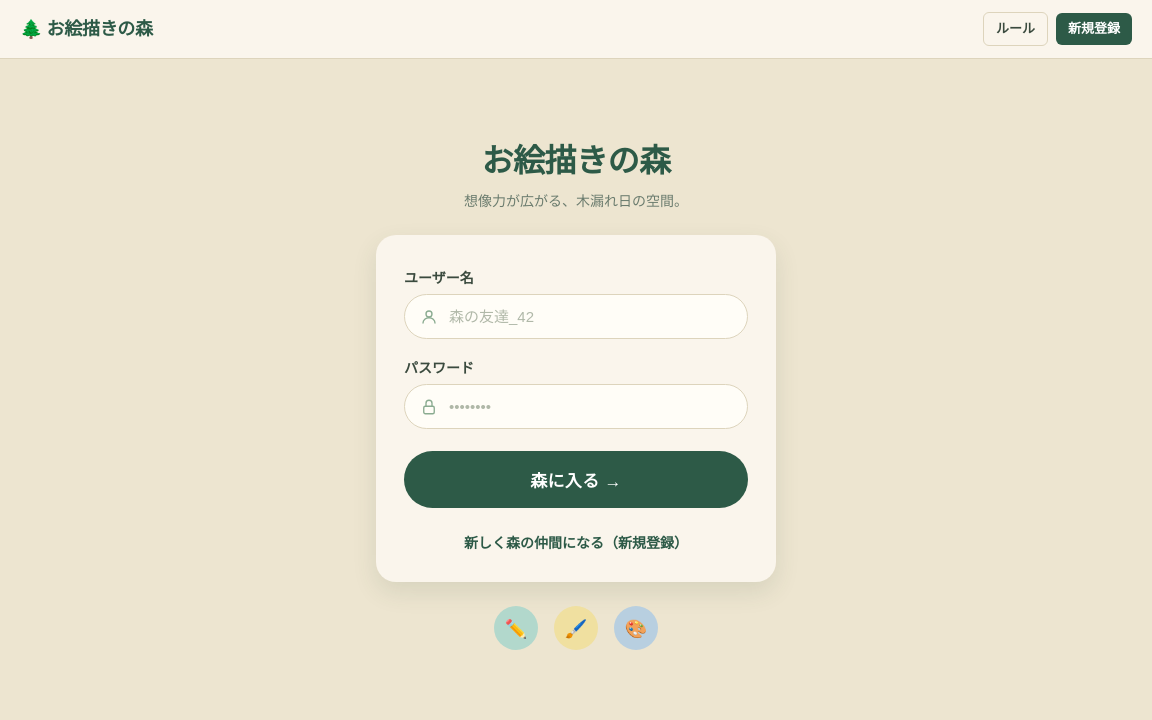
Scenario: Login ページ › 送信中はボタンが無効化される
Type "testuser" into the field labelled "ユーザー名".
click(576, 317); type("testuser")  # box [404,294,748,339]
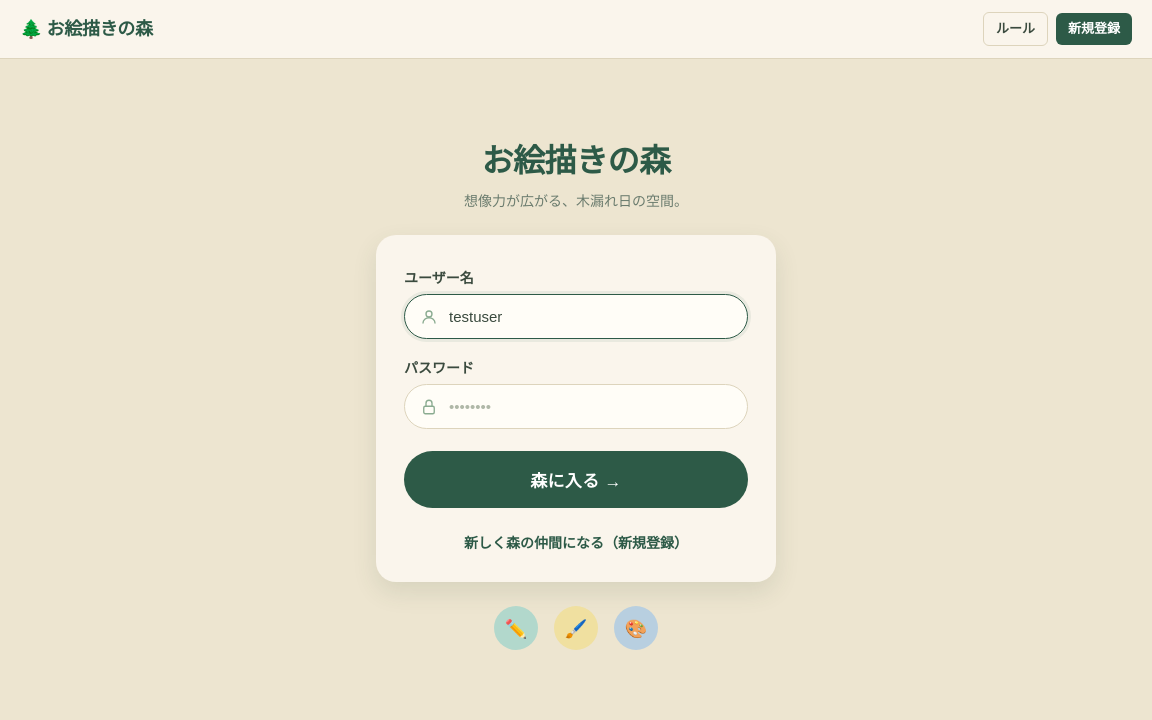
Type "password123" into the password field labelled "パスワード".
click(576, 407); type("password123")  # box [404,384,748,429]
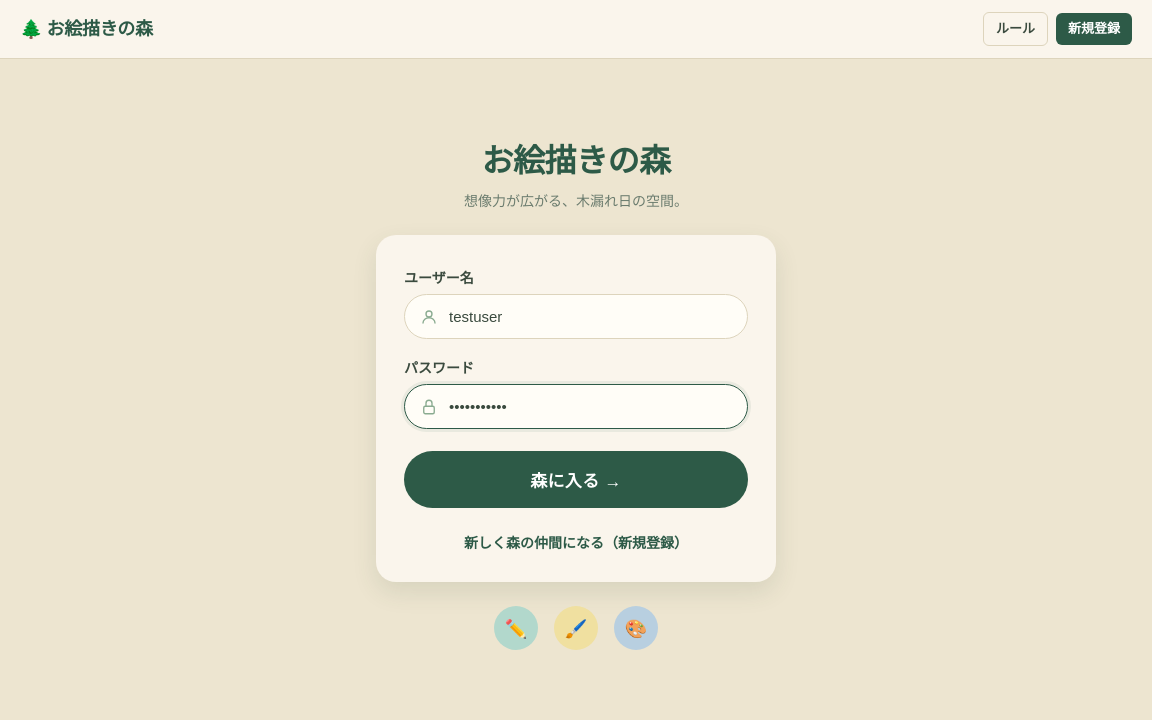
Click the button "森に入る →".
click(576, 480)  # box [404,451,748,508]
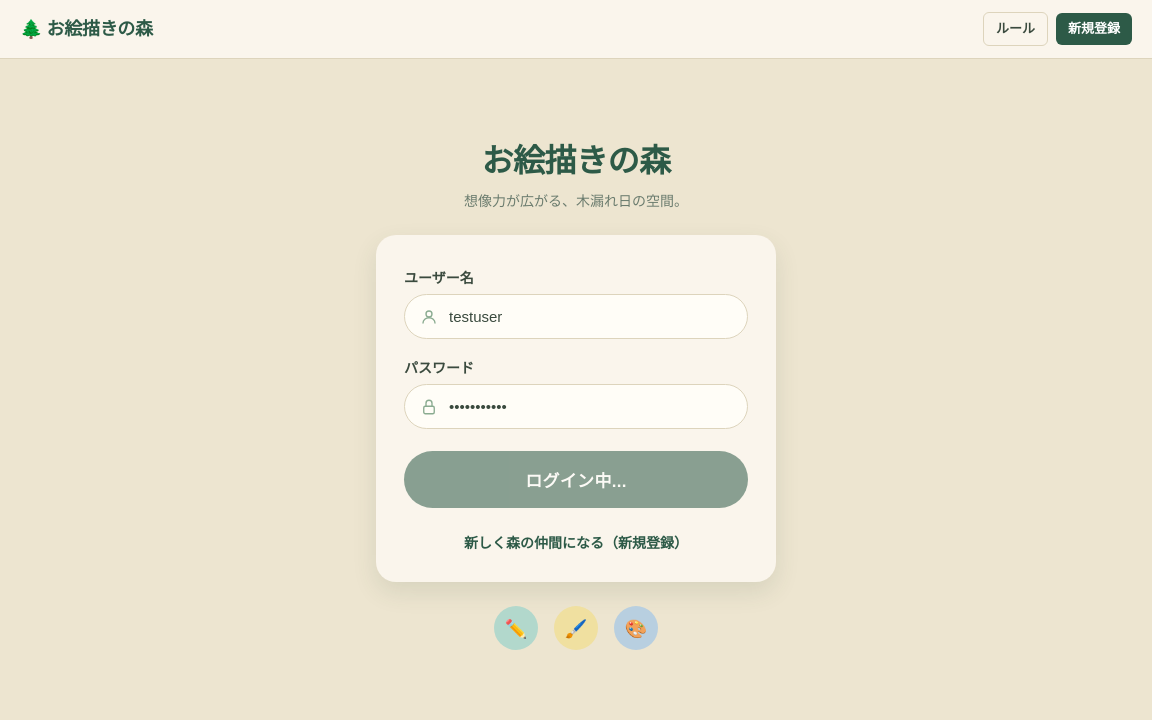
Check: the button "ログイン中..." is disabled, box [404,451,748,508]
